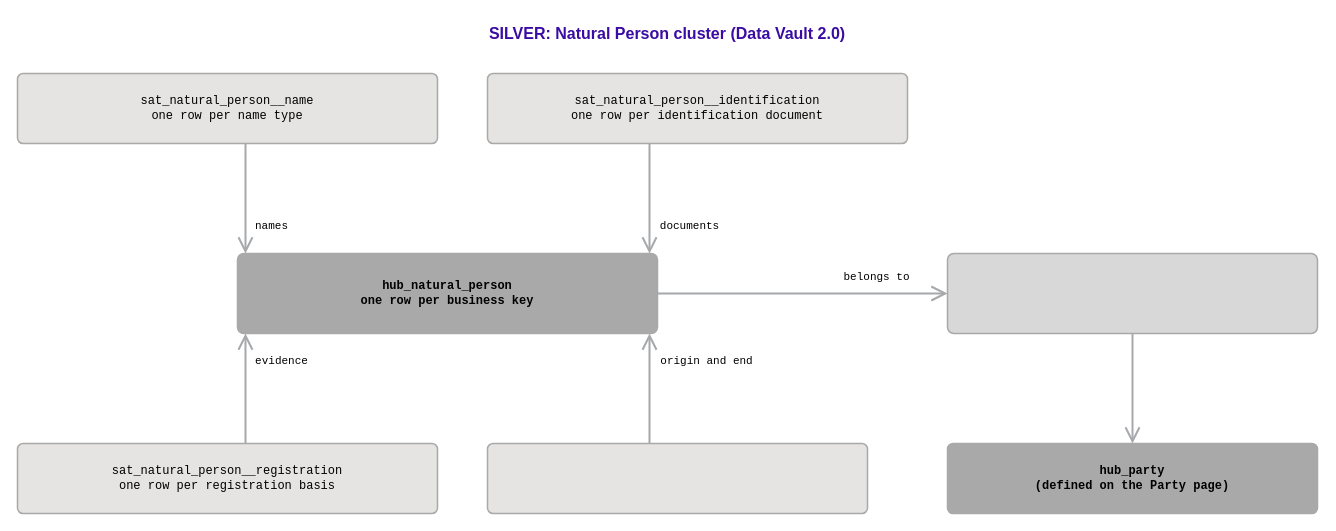
The diagram is 1336 pixels wide and 531 high, and some of its shapes have lost their labels. The box of each missing label's shape, as (x1, y1, x2, y2) in pixels:
lnk_natural_person__party one row per natural person and party: (946, 252, 1318, 334)
sat_natural_person__lifecycle one row per person: (486, 442, 868, 514)
